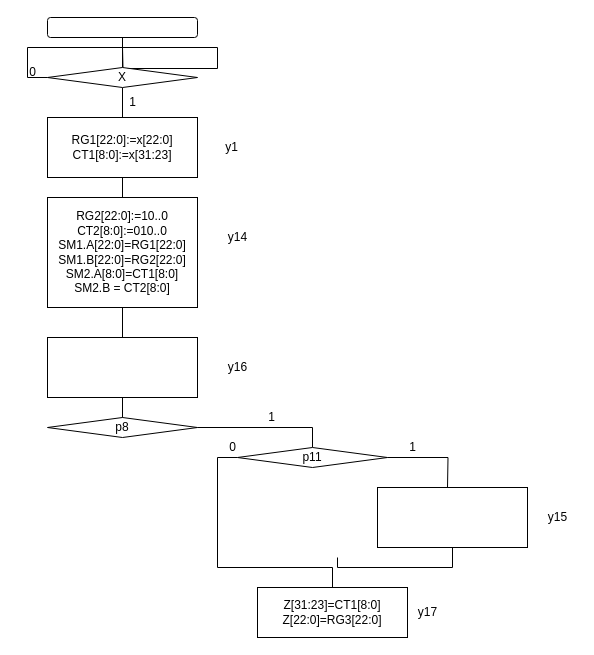
Some shapes in this 594 by 655 pixel diagram are drawn without their labels. Each missing label, with the centre of its shape:
RG3[22:0]:=L1(RG2).0 CT3:=CT3+1: the point at 452,517
RG3[22:0]:=SM1.S[22:0] CT3[8:0]:=SM2.S[8:0]: the point at 122,367
Начало: the point at 122,27
